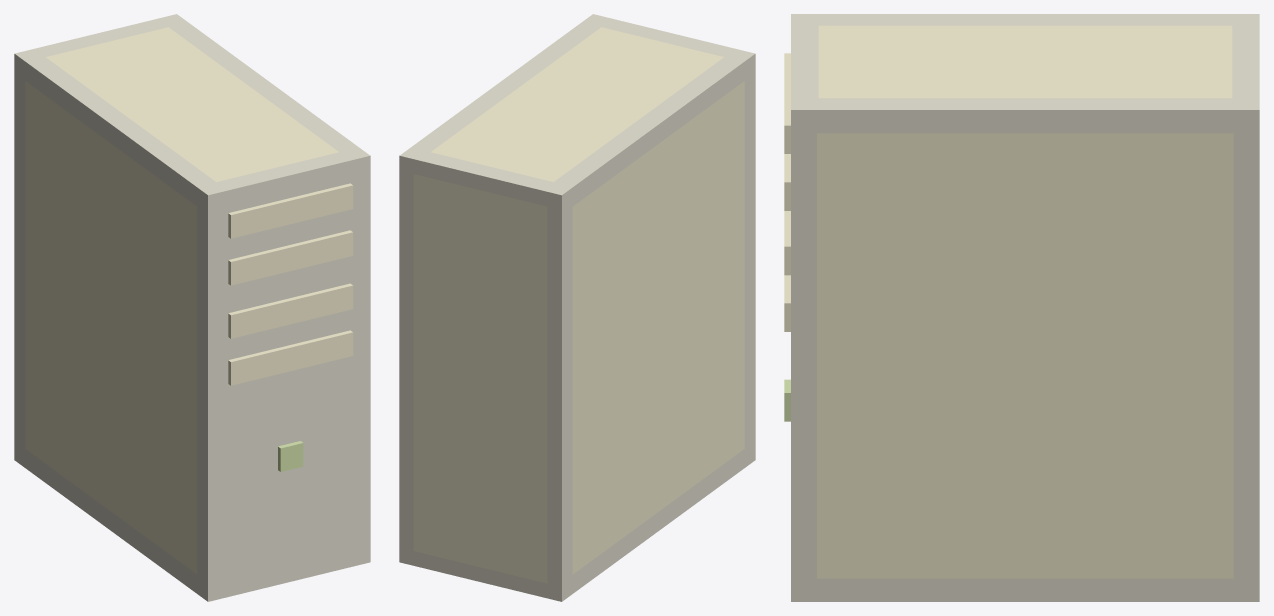
3 views of the same model, side by side, from view 1: azimuth 30°, elevation 25°; view 2: azimuth 150°, elevation 25°; view 3: azimuth 270°, elevation 25° (orthographic). The views are drawn at different scales.
Visible parts, largest first — view 1: Cube_13; view 2: Cube_13; view 3: Cube_13.
Boxes of the visible parts, left/top/right/bottom form: Cube_13: left=14, top=14, right=370, bottom=601; Cube_13: left=399, top=14, right=755, bottom=601; Cube_13: left=784, top=14, right=1259, bottom=601.
Size of the model in its own units: 7.01 by 16.78 by 14.69.
